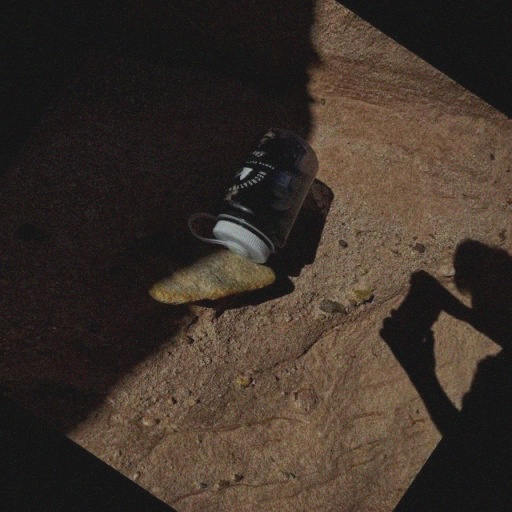bottle: (183, 111, 340, 282)
